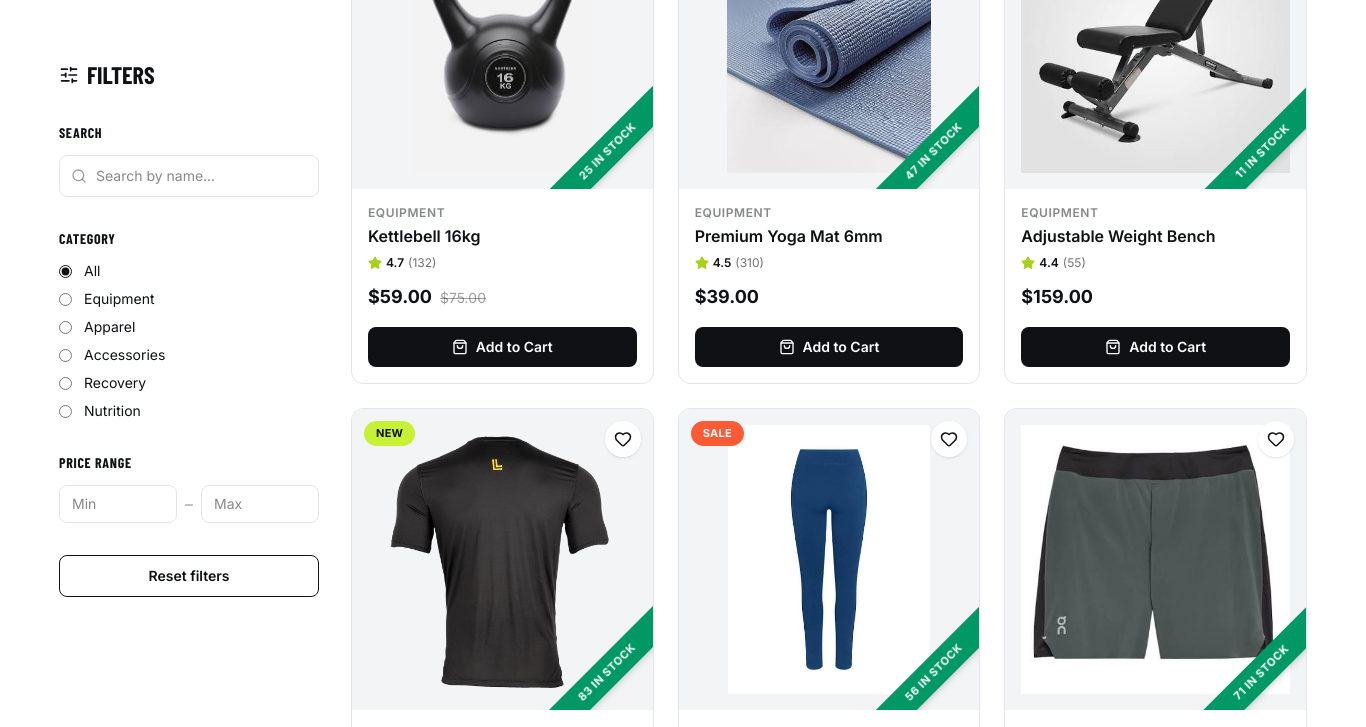
Scenario: Shopping cart › adding a product updates the cart
(page scrolled)
Click the button "Add to Cart" below "$59.00".
click(502, 347)  # box [368,327,637,367]
(page scrolled)
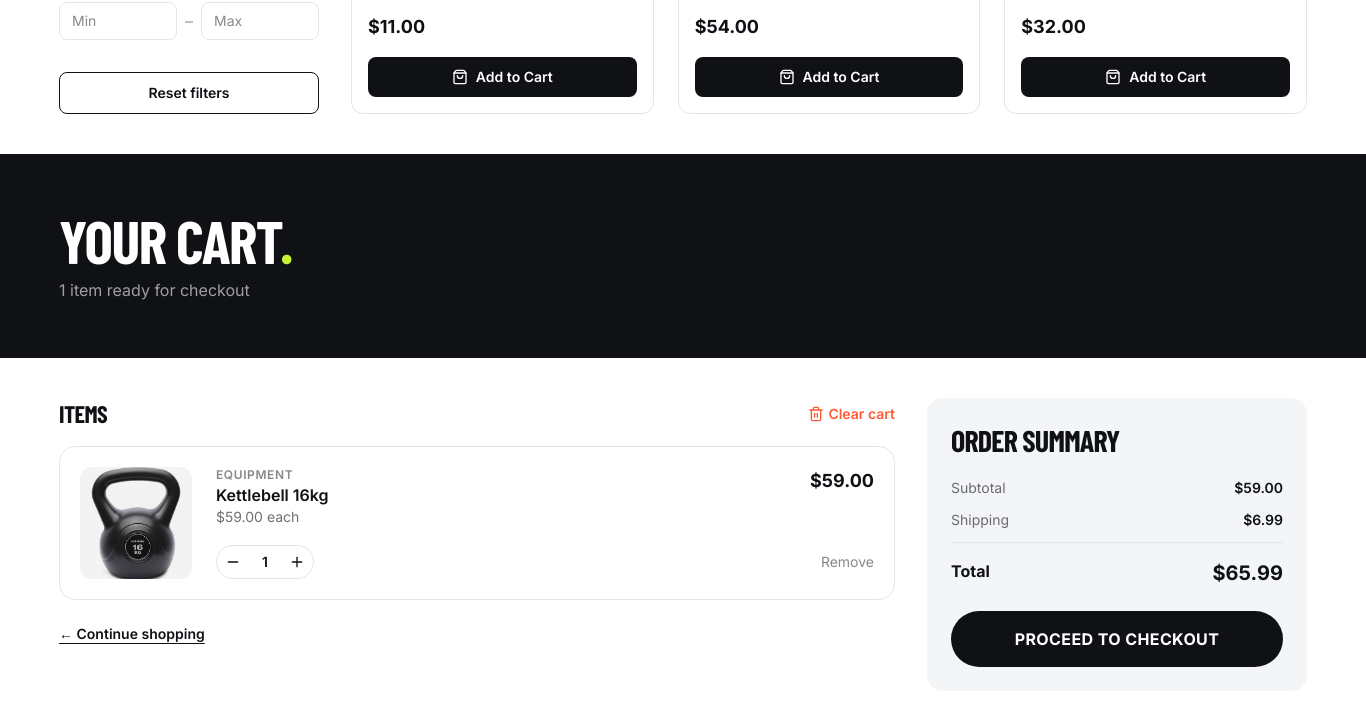
Expected: the text "$59.00 each" is shown, [216,508,299,525]
